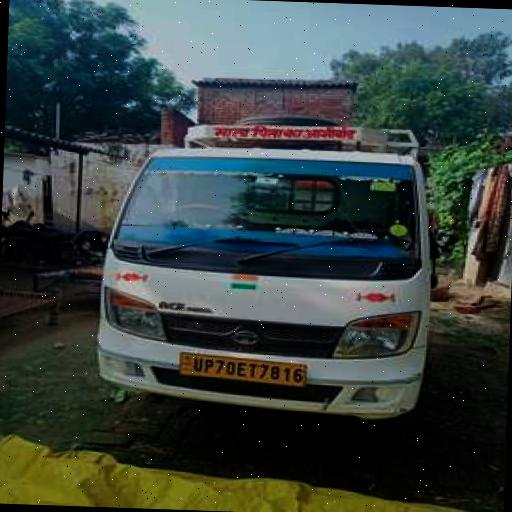license_plate`: (176, 352, 305, 386)
